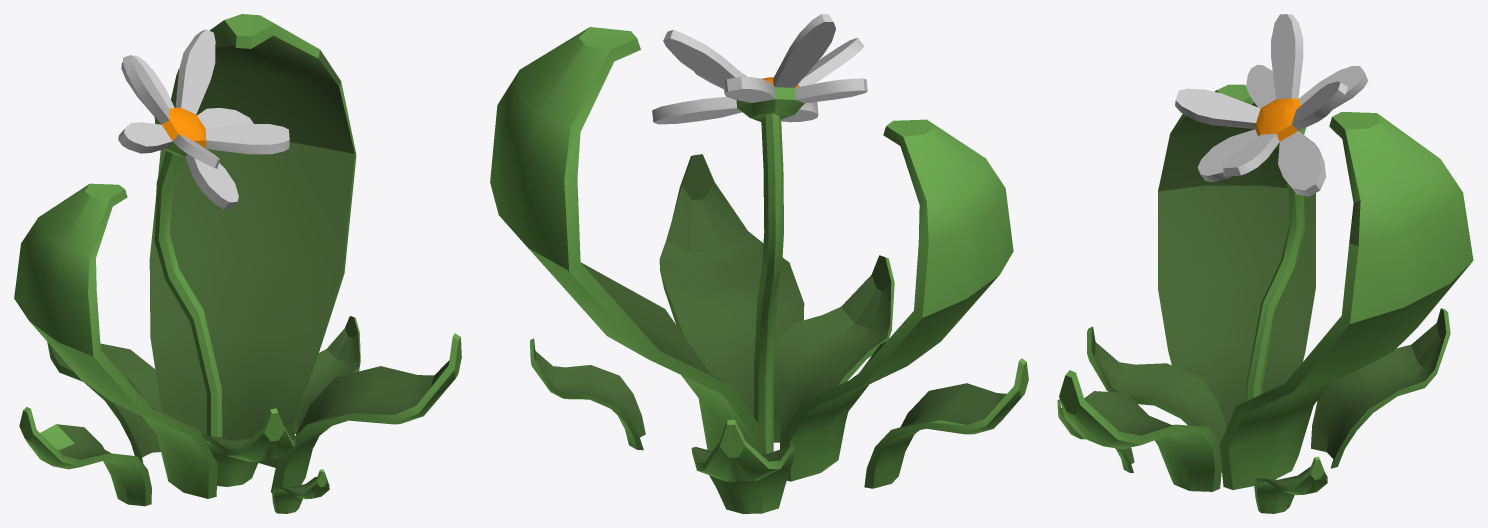
Rendered from daisy.fbx.
3 views of the same model, side by side, from view 1: azimuth 30°, elevation 25°; view 2: azimuth 150°, elevation 25°; view 3: azimuth 270°, elevation 25° (orthographic). The views are drawn at different scales.
Parts seen in each view (by area): view 1: Flower; view 2: Flower; view 3: Flower.
Boxes of the visible parts, x1,y1,x2,y2 form: Flower: [14, 14, 461, 513]; Flower: [490, 14, 1028, 513]; Flower: [1057, 14, 1473, 513].
Bounding box in the file's own units: 64.06 × 65.51 × 58.07.
